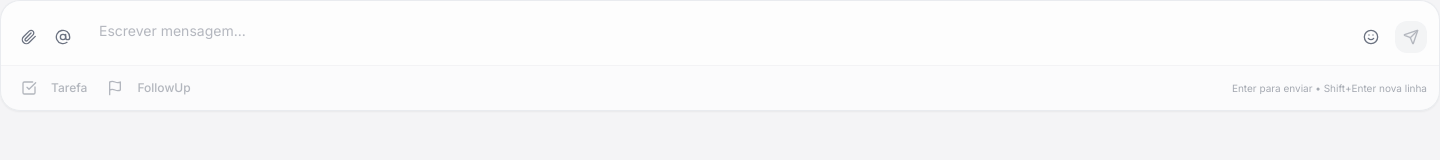
Test: chat composer mentions › selects a teammate with @ and sends the corresponding user identity
Later steps or results of the test are not shown.
Type "@Ana" into the text box at (717, 33), box [87,13,1347,53]
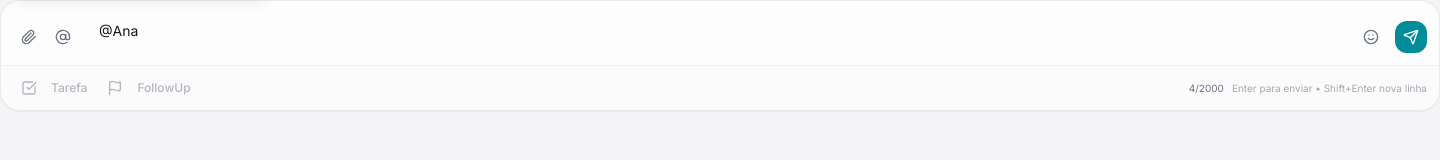
Press Enter in the text box, box [87,13,1347,53]
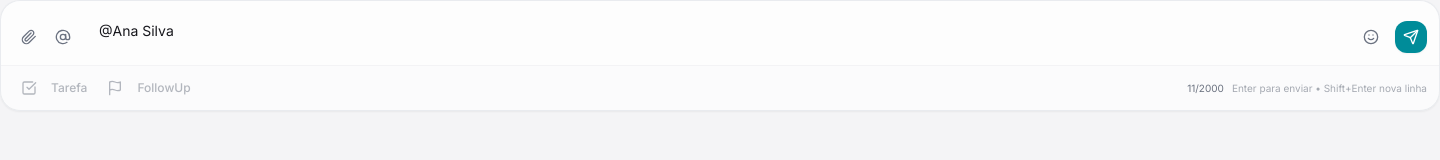
Expected: the text box holds "@Ana Silva ", [87,13,1347,53]
